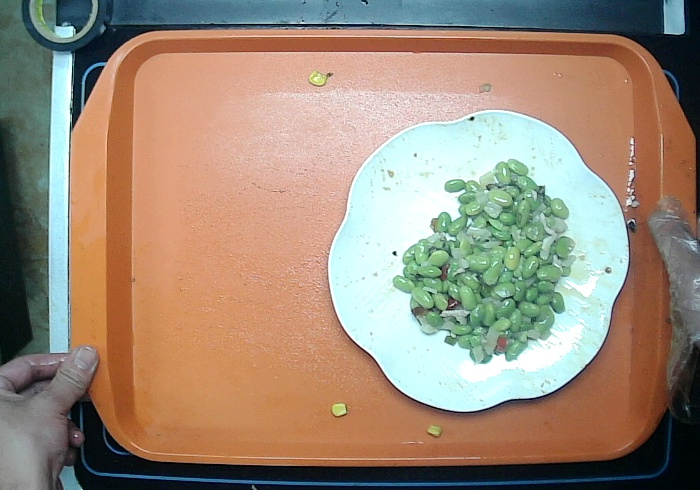HZYJPL-Bai_Se_Hua_Duo_Wan: (325, 110, 630, 413)
